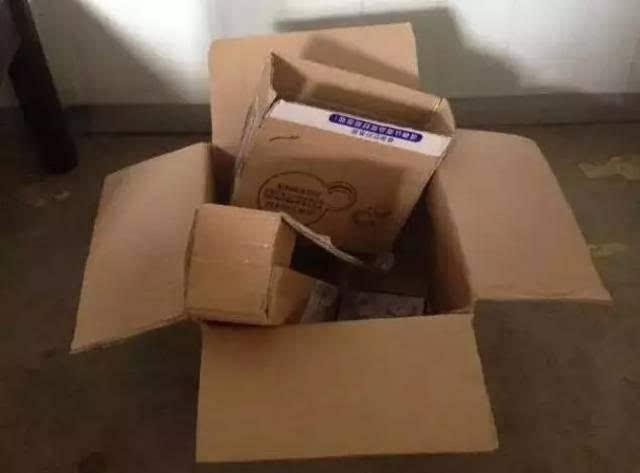cardboard: (211, 23, 454, 268), (196, 314, 496, 462), (431, 130, 610, 302), (0, 324, 200, 472), (71, 143, 212, 351), (185, 204, 336, 325)
